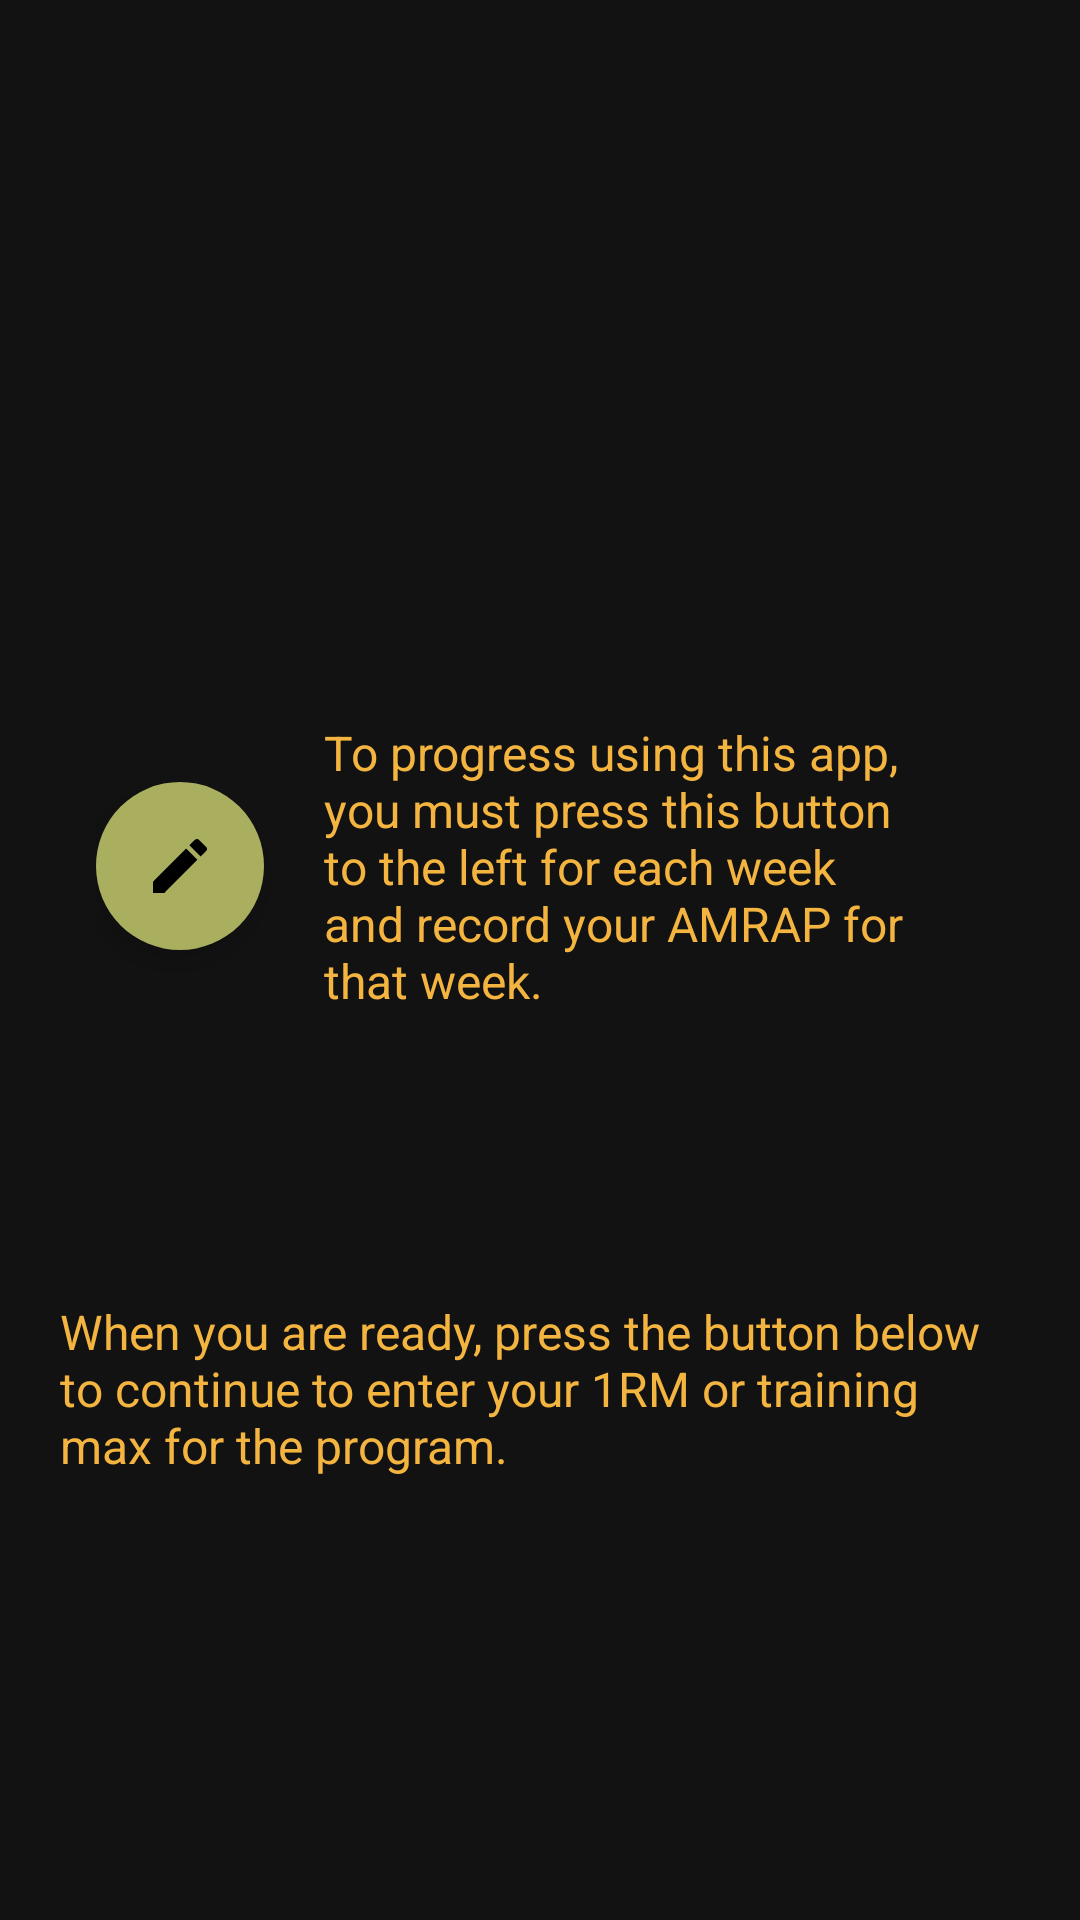

Icons on this 1080 x 1920 Android screen, each with its box as (x1, y1, x2, y2):
update week: (96, 782, 264, 950)
